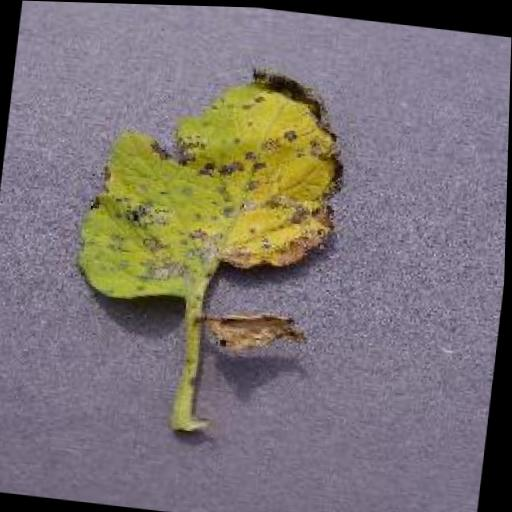Septoria: (71, 45, 356, 325)
